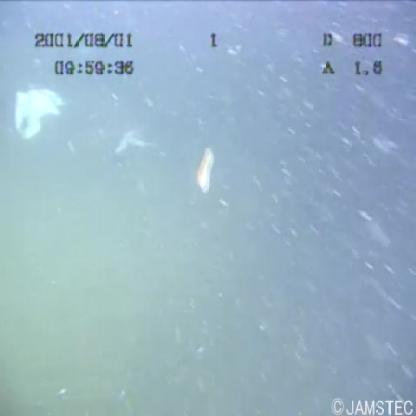Bio: (196, 143, 220, 193)
Rác: (8, 86, 72, 138), (106, 125, 158, 159)
